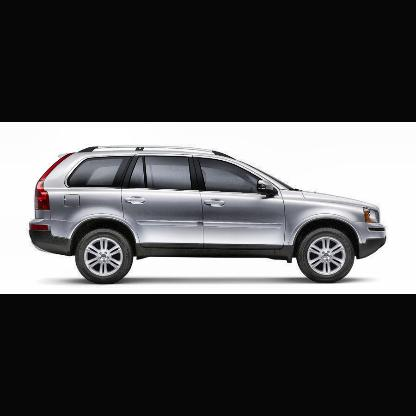Volvo XC90 SUV 2007: (29, 145, 387, 284)
